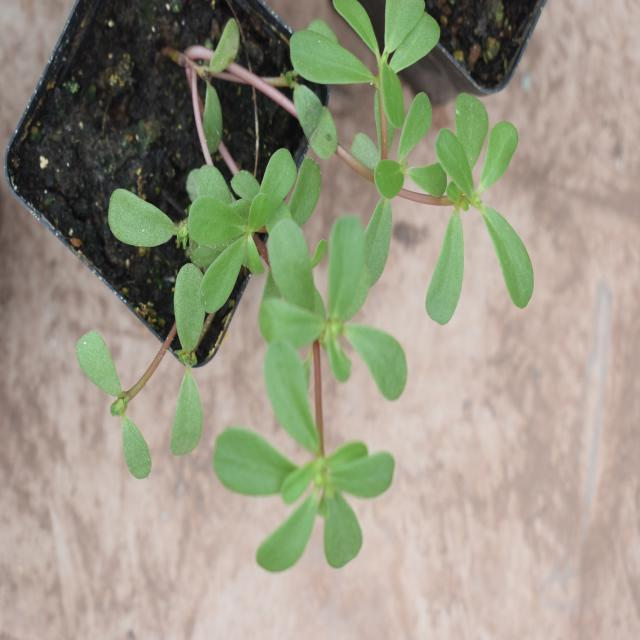purslane: (84, 5, 547, 562)
